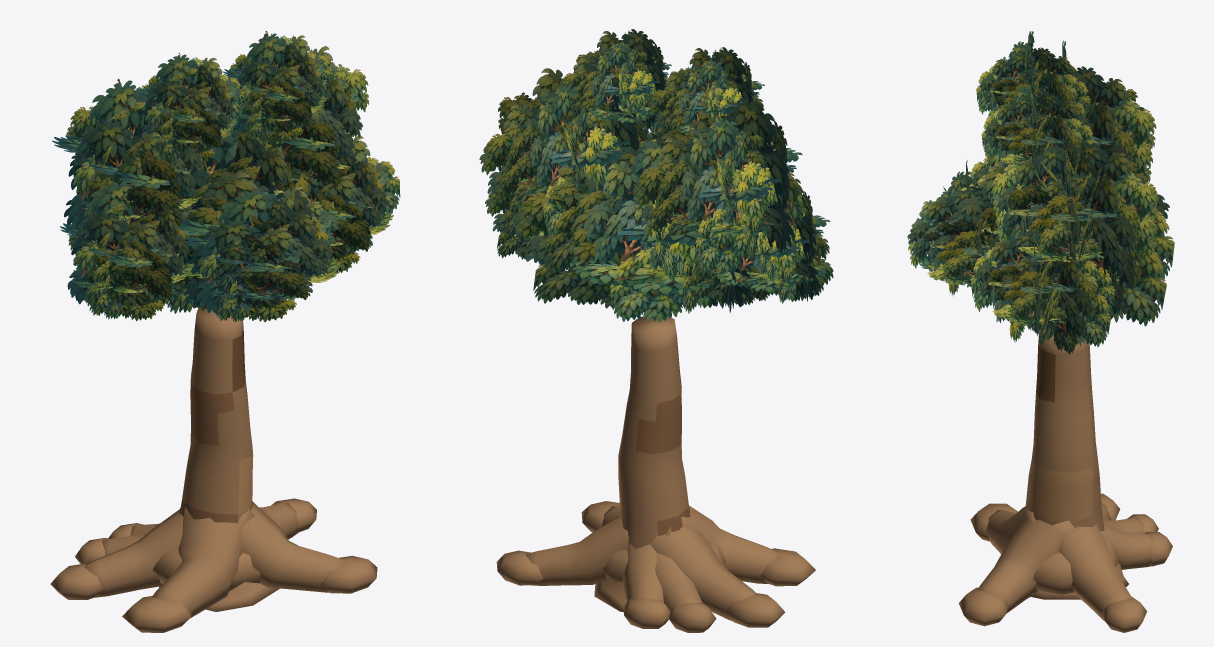
Rendered from TREE_EUCALYPTUS_001_v013_LOD_GAMEPLAY.glb.
The picture shows the model from 3 angles, left to right: view 1: azimuth 30°, elevation 25°; view 2: azimuth 150°, elevation 25°; view 3: azimuth 270°, elevation 25°; orthographic projection. The views are drawn at different scales.
Parts seen in each view (by area): view 1: TREE_EUCALYPTUS_001_GAMEPLAY_AUTHORED_FOLIAGE_ISLANDS, TREE_EUCALYPTUS_001_GAMEPLAY_MAIN_TRUNK, TREE_EUCALYPTUS_001_GAMEPLAY_ROOT_FRONT_LEFT, TREE_EUCALYPTUS_001_GAMEPLAY_ROOT_FRONT_RIGHT, TREE_EUCALYPTUS_001_GAMEPLAY_ROOT_LONG_LEFT, TREE_EUCALYPTUS_001_GAMEPLAY_ROOT_TOE_FRONT_LEFT, TREE_EUCALYPTUS_001_GAMEPLAY_ROOT_TOE_FRONT_RIGHT, TREE_EUCALYPTUS_001_GAMEPLAY_ROOT_TOE_LONG_LEFT, TREE_EUCALYPTUS_001_GAMEPLAY_BROAD_PLANTED_ROOT_MOUND, TREE_EUCALYPTUS_001_GAMEPLAY_SCULPTED_ROOT_COLLAR, TREE_EUCALYPTUS_001_GAMEPLAY_ROOT_RIGHT_SIDE, TREE_EUCALYPTUS_001_GAMEPLAY_ROOT_TOE_RIGHT_SIDE; view 2: TREE_EUCALYPTUS_001_GAMEPLAY_AUTHORED_FOLIAGE_ISLANDS, TREE_EUCALYPTUS_001_GAMEPLAY_MAIN_TRUNK, TREE_EUCALYPTUS_001_GAMEPLAY_ROOT_LONG_LEFT, TREE_EUCALYPTUS_001_GAMEPLAY_ROOT_RIGHT_SIDE, TREE_EUCALYPTUS_001_GAMEPLAY_ROOT_FRONT_LEFT, TREE_EUCALYPTUS_001_GAMEPLAY_ROOT_REAR_SHORT, TREE_EUCALYPTUS_001_GAMEPLAY_ROOT_LEFT_REAR, TREE_EUCALYPTUS_001_GAMEPLAY_ROOT_TOE_LONG_LEFT, TREE_EUCALYPTUS_001_GAMEPLAY_ROOT_TOE_FRONT_LEFT, TREE_EUCALYPTUS_001_GAMEPLAY_ROOT_TOE_REAR_SHORT, TREE_EUCALYPTUS_001_GAMEPLAY_ROOT_TOE_RIGHT_SIDE, TREE_EUCALYPTUS_001_GAMEPLAY_ROOT_TOE_LEFT_REAR (+3 smaller); view 3: TREE_EUCALYPTUS_001_GAMEPLAY_AUTHORED_FOLIAGE_ISLANDS, TREE_EUCALYPTUS_001_GAMEPLAY_MAIN_TRUNK, TREE_EUCALYPTUS_001_GAMEPLAY_ROOT_FRONT_RIGHT, TREE_EUCALYPTUS_001_GAMEPLAY_ROOT_RIGHT_SIDE, TREE_EUCALYPTUS_001_GAMEPLAY_ROOT_REAR_SHORT, TREE_EUCALYPTUS_001_GAMEPLAY_BROAD_PLANTED_ROOT_MOUND, TREE_EUCALYPTUS_001_GAMEPLAY_ROOT_TOE_FRONT_RIGHT, TREE_EUCALYPTUS_001_GAMEPLAY_ROOT_FRONT_LEFT, TREE_EUCALYPTUS_001_GAMEPLAY_ROOT_TOE_RIGHT_SIDE, TREE_EUCALYPTUS_001_GAMEPLAY_ROOT_TOE_FRONT_LEFT, TREE_EUCALYPTUS_001_GAMEPLAY_ROOT_TOE_REAR_SHORT, TREE_EUCALYPTUS_001_GAMEPLAY_ROOT_LEFT_REAR (+1 smaller).
Boxes of the visible parts, x1=… form: TREE_EUCALYPTUS_001_GAMEPLAY_AUTHORED_FOLIAGE_ISLANDS: x1=52, y1=31, x2=400, y2=322; TREE_EUCALYPTUS_001_GAMEPLAY_MAIN_TRUNK: x1=179, y1=307, x2=253, y2=522; TREE_EUCALYPTUS_001_GAMEPLAY_ROOT_FRONT_LEFT: x1=152, y1=507, x2=255, y2=618; TREE_EUCALYPTUS_001_GAMEPLAY_ROOT_FRONT_RIGHT: x1=241, y1=501, x2=344, y2=592; TREE_EUCALYPTUS_001_GAMEPLAY_ROOT_LONG_LEFT: x1=84, y1=509, x2=183, y2=597; TREE_EUCALYPTUS_001_GAMEPLAY_ROOT_TOE_FRONT_LEFT: x1=122, y1=596, x2=191, y2=632; TREE_EUCALYPTUS_001_GAMEPLAY_ROOT_TOE_FRONT_RIGHT: x1=320, y1=555, x2=377, y2=593; TREE_EUCALYPTUS_001_GAMEPLAY_ROOT_TOE_LONG_LEFT: x1=50, y1=563, x2=102, y2=599; TREE_EUCALYPTUS_001_GAMEPLAY_BROAD_PLANTED_ROOT_MOUND: x1=152, y1=548, x2=260, y2=590; TREE_EUCALYPTUS_001_GAMEPLAY_SCULPTED_ROOT_COLLAR: x1=159, y1=582, x2=279, y2=611; TREE_EUCALYPTUS_001_GAMEPLAY_ROOT_RIGHT_SIDE: x1=260, y1=503, x2=298, y2=539; TREE_EUCALYPTUS_001_GAMEPLAY_ROOT_TOE_RIGHT_SIDE: x1=271, y1=498, x2=316, y2=532; TREE_EUCALYPTUS_001_GAMEPLAY_AUTHORED_FOLIAGE_ISLANDS: x1=479, y1=29, x2=833, y2=322; TREE_EUCALYPTUS_001_GAMEPLAY_MAIN_TRUNK: x1=618, y1=316, x2=690, y2=548; TREE_EUCALYPTUS_001_GAMEPLAY_ROOT_LONG_LEFT: x1=650, y1=527, x2=756, y2=620; TREE_EUCALYPTUS_001_GAMEPLAY_ROOT_RIGHT_SIDE: x1=525, y1=516, x2=628, y2=585; TREE_EUCALYPTUS_001_GAMEPLAY_ROOT_FRONT_LEFT: x1=665, y1=505, x2=779, y2=584; TREE_EUCALYPTUS_001_GAMEPLAY_ROOT_REAR_SHORT: x1=622, y1=543, x2=663, y2=602; TREE_EUCALYPTUS_001_GAMEPLAY_ROOT_LEFT_REAR: x1=655, y1=553, x2=702, y2=611; TREE_EUCALYPTUS_001_GAMEPLAY_ROOT_TOE_LONG_LEFT: x1=725, y1=593, x2=785, y2=627; TREE_EUCALYPTUS_001_GAMEPLAY_ROOT_TOE_FRONT_LEFT: x1=760, y1=548, x2=815, y2=586; TREE_EUCALYPTUS_001_GAMEPLAY_ROOT_TOE_REAR_SHORT: x1=623, y1=598, x2=670, y2=628; TREE_EUCALYPTUS_001_GAMEPLAY_ROOT_TOE_RIGHT_SIDE: x1=496, y1=550, x2=543, y2=585; TREE_EUCALYPTUS_001_GAMEPLAY_ROOT_TOE_LEFT_REAR: x1=669, y1=602, x2=716, y2=632; TREE_EUCALYPTUS_001_GAMEPLAY_AUTHORED_FOLIAGE_ISLANDS: x1=907, y1=31, x2=1174, y2=354; TREE_EUCALYPTUS_001_GAMEPLAY_MAIN_TRUNK: x1=1025, y1=328, x2=1104, y2=531; TREE_EUCALYPTUS_001_GAMEPLAY_ROOT_FRONT_RIGHT: x1=977, y1=519, x2=1080, y2=613; TREE_EUCALYPTUS_001_GAMEPLAY_ROOT_RIGHT_SIDE: x1=1059, y1=524, x2=1131, y2=621; TREE_EUCALYPTUS_001_GAMEPLAY_ROOT_REAR_SHORT: x1=1100, y1=523, x2=1152, y2=569; TREE_EUCALYPTUS_001_GAMEPLAY_BROAD_PLANTED_ROOT_MOUND: x1=1033, y1=540, x2=1117, y2=594; TREE_EUCALYPTUS_001_GAMEPLAY_ROOT_TOE_FRONT_RIGHT: x1=959, y1=587, x2=1009, y2=626; TREE_EUCALYPTUS_001_GAMEPLAY_ROOT_FRONT_LEFT: x1=986, y1=506, x2=1035, y2=554; TREE_EUCALYPTUS_001_GAMEPLAY_ROOT_TOE_RIGHT_SIDE: x1=1102, y1=596, x2=1146, y2=632; TREE_EUCALYPTUS_001_GAMEPLAY_ROOT_TOE_FRONT_LEFT: x1=970, y1=503, x2=1017, y2=541; TREE_EUCALYPTUS_001_GAMEPLAY_ROOT_TOE_REAR_SHORT: x1=1144, y1=532, x2=1172, y2=566; TREE_EUCALYPTUS_001_GAMEPLAY_ROOT_LEFT_REAR: x1=1103, y1=518, x2=1144, y2=533.
Bounding box in the file's own units: 4.65 × 6.87 × 3.68.
Materials: 5 (1 with a texture image).
